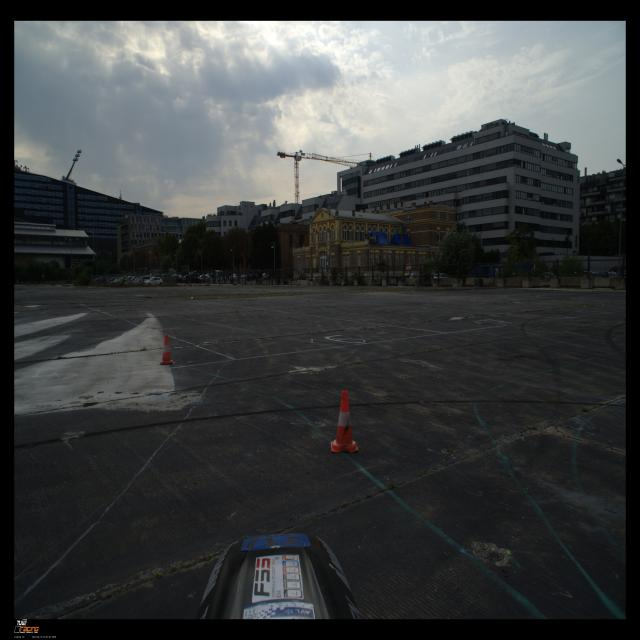orange_cone: (331, 391, 358, 452), (158, 334, 176, 365)
